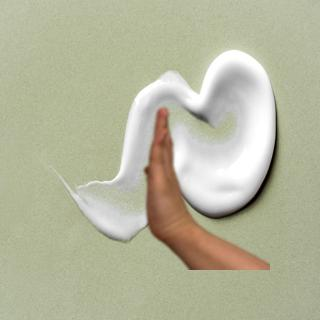RIGHT: (135, 102, 190, 243)
